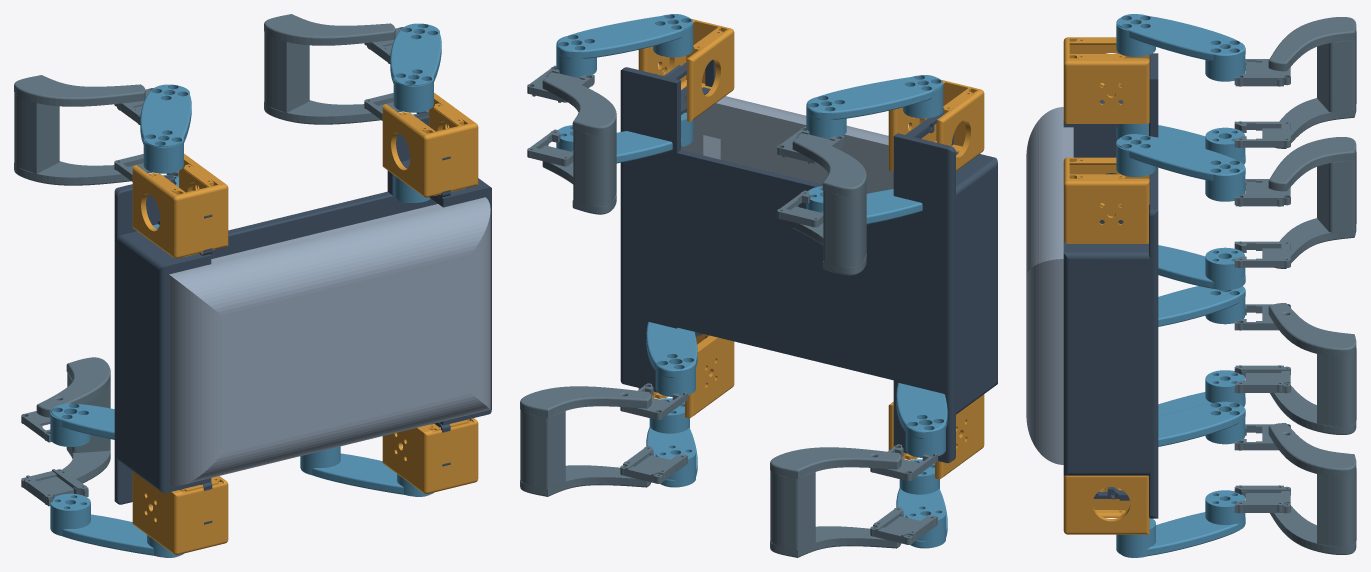
The model's file is robot_dog_layout.obj.
3 views of the same model, side by side, from view 1: azimuth 30°, elevation 25°; view 2: azimuth 150°, elevation 25°; view 3: azimuth 270°, elevation 25° (orthographic).
Visible parts, largest first — view 1: top_cover, frame, rear_left_knee_v2, front_left_knee_v2, front_left_hip_roll, rear_left_hip_roll, rear_right_knee_v2, rear_right_hip_roll, front_right_hip_roll, front_left_hip_pitch_L, rear_left_hip_pitch_L, rear_right_hip_pitch_L (+2 smaller); view 2: frame, front_right_knee_v2, rear_right_knee_v2, top_cover, front_left_knee_v2, rear_left_knee_v2, front_left_hip_pitch_L, rear_left_hip_pitch_L, front_left_hip_roll, rear_left_hip_roll, front_right_hip_pitch_R, rear_right_hip_pitch_R (+6 smaller); view 3: frame, top_cover, rear_left_knee_v2, front_right_knee_v2, front_left_knee_v2, rear_right_knee_v2, rear_left_hip_roll, front_left_hip_roll, rear_left_hip_pitch_L, front_left_hip_pitch_L, front_right_hip_roll, front_right_hip_pitch_L (+5 smaller).
Part boxes in pixels (box(x1,y1,x2,y2)): top_cover: box(169, 197, 490, 485); frame: box(114, 112, 491, 524); rear_left_knee_v2: box(14, 75, 178, 185); front_left_knee_v2: box(264, 14, 428, 124); front_left_hip_roll: box(382, 93, 478, 197); rear_left_hip_roll: box(132, 154, 228, 258); rear_right_knee_v2: box(21, 357, 110, 506); rear_right_hip_roll: box(132, 471, 228, 555); front_right_hip_roll: box(382, 418, 478, 494); front_left_hip_pitch_L: box(390, 23, 441, 112); rear_left_hip_pitch_L: box(140, 84, 191, 173); rear_right_hip_pitch_L: box(50, 493, 184, 557); frame: box(620, 60, 997, 463); front_right_knee_v2: box(520, 383, 687, 496); rear_right_knee_v2: box(770, 444, 937, 557); top_cover: box(681, 96, 893, 193); front_left_knee_v2: box(527, 65, 616, 214); rear_left_knee_v2: box(777, 126, 866, 275); front_left_hip_pitch_L: box(556, 14, 693, 78); rear_left_hip_pitch_L: box(806, 75, 943, 139); front_left_hip_roll: box(638, 19, 734, 121); rear_left_hip_roll: box(888, 80, 984, 171); front_right_hip_pitch_R: box(646, 322, 697, 396); rear_right_hip_pitch_R: box(896, 383, 947, 457); frame: box(1063, 53, 1158, 518); top_cover: box(1026, 107, 1073, 464); rear_left_knee_v2: box(1234, 17, 1356, 148); front_right_knee_v2: box(1234, 423, 1356, 554); front_left_knee_v2: box(1234, 137, 1356, 268); rear_right_knee_v2: box(1234, 303, 1356, 434); rear_left_hip_roll: box(1063, 37, 1149, 123); front_left_hip_roll: box(1063, 157, 1149, 243); rear_left_hip_pitch_L: box(1116, 14, 1245, 81); front_left_hip_pitch_L: box(1116, 134, 1245, 201); front_right_hip_roll: box(1063, 475, 1149, 534); front_right_hip_pitch_L: box(1116, 490, 1245, 557).
Size of the model in its own units: 231 by 237 by 174.
